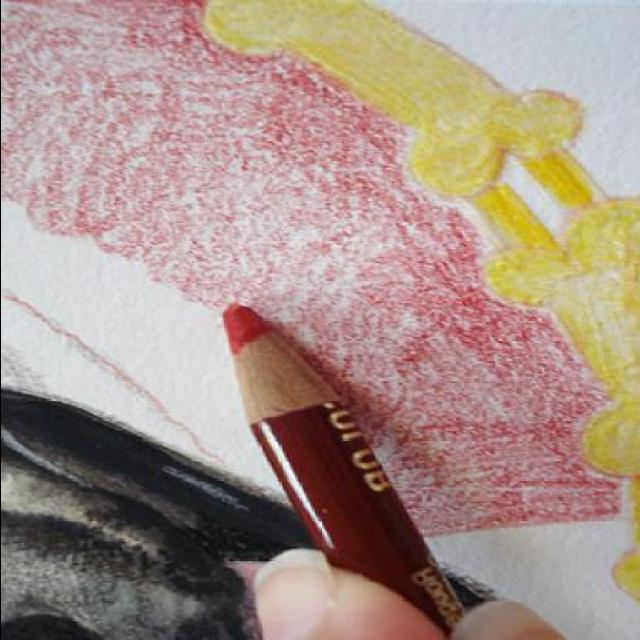pencil: (192, 293, 376, 470)
